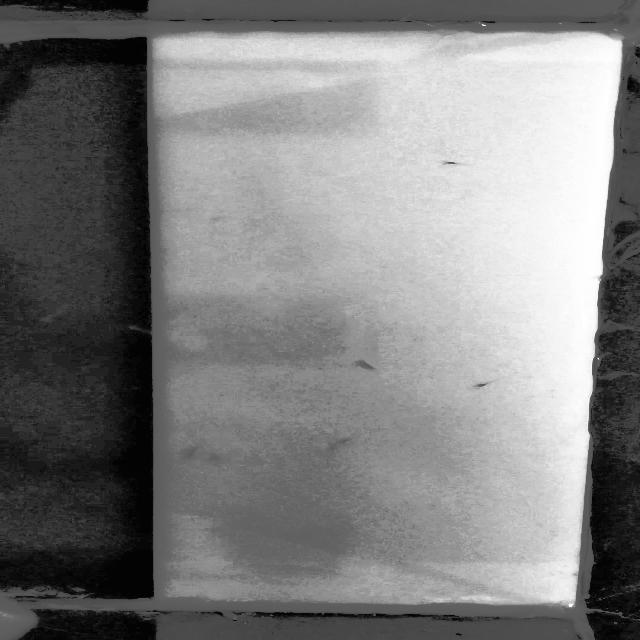shrimp: (462, 368, 516, 396), (348, 352, 387, 379), (318, 434, 375, 452), (170, 441, 220, 461), (440, 154, 481, 170)
